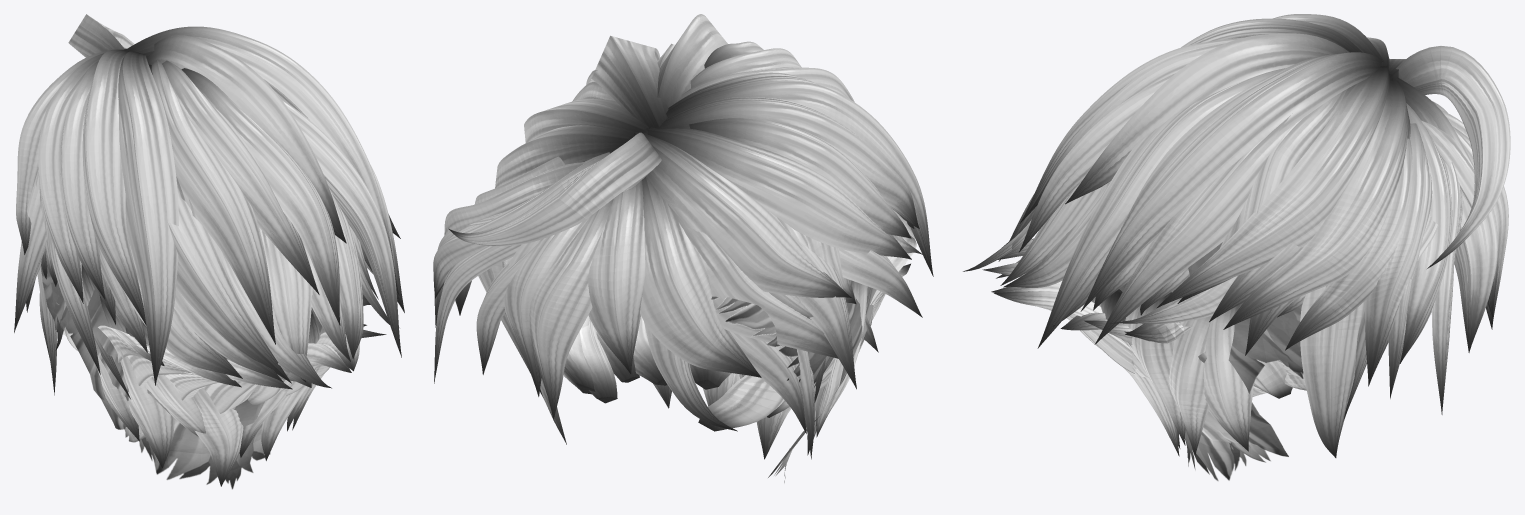
The model's file is hair-feminine-sideSweep.glb.
The picture shows the model from 3 angles, left to right: view 1: azimuth 30°, elevation 25°; view 2: azimuth 150°, elevation 25°; view 3: azimuth 270°, elevation 25°; orthographic projection. The views are drawn at different scales.
Parts seen in each view (by area): view 1: hair-sideSweep; view 2: hair-sideSweep; view 3: hair-sideSweep.
Part boxes in pixels (bbox=[...]): hair-sideSweep: bbox=[14, 14, 404, 489]; hair-sideSweep: bbox=[433, 14, 933, 483]; hair-sideSweep: bbox=[963, 14, 1510, 481].
Bounding box in the file's own units: 0.2544 × 0.3035 × 0.3352.
3 materials, 3 textured.
